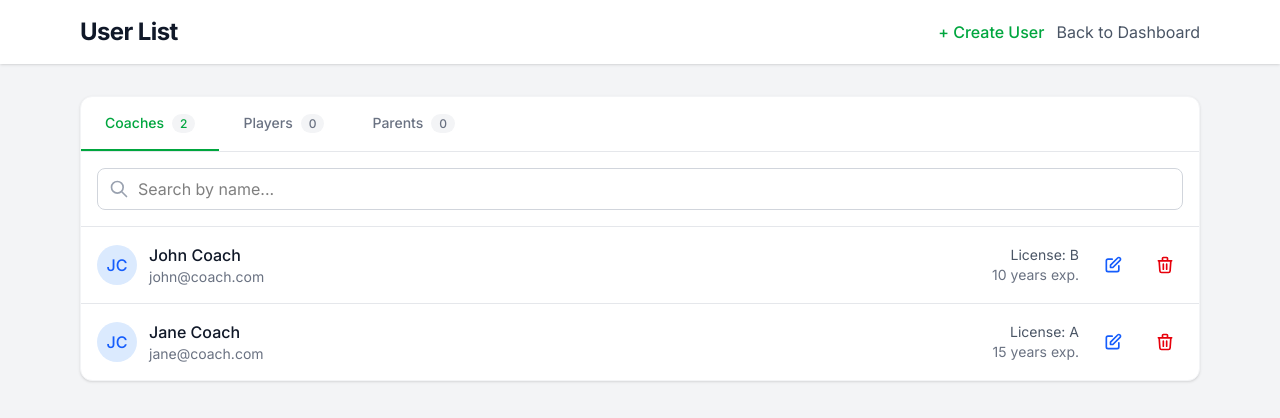
UserListPage › Search functionality › should show clear button when search has value
Expected: the text "John Coach" is shown, x1=149 y1=245 x2=241 y2=265
Step 1. Type "test" into the field with placeholder "Search by name..." → [640, 189], box x1=97 y1=168 x2=1183 y2=210
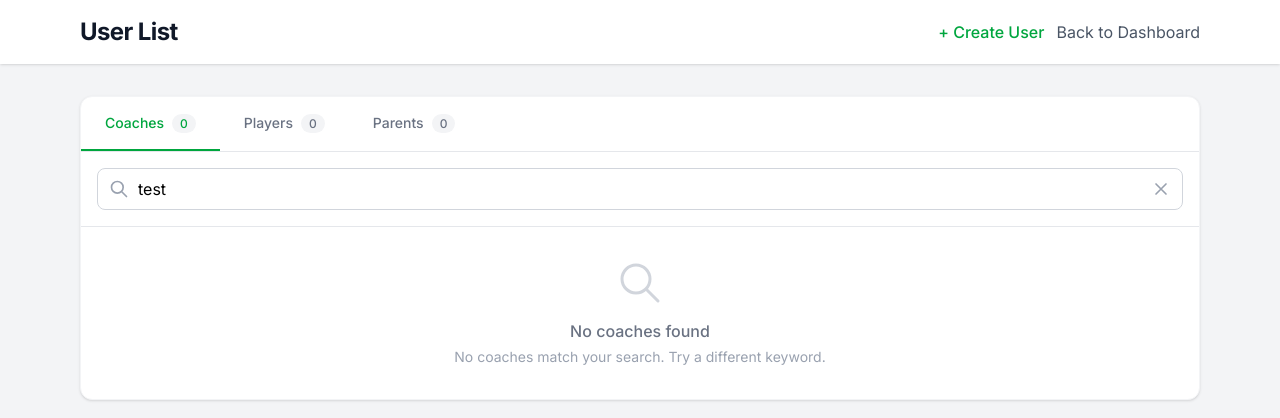
Expected: the 6th button is shown, x1=1151 y1=179 x2=1171 y2=199
